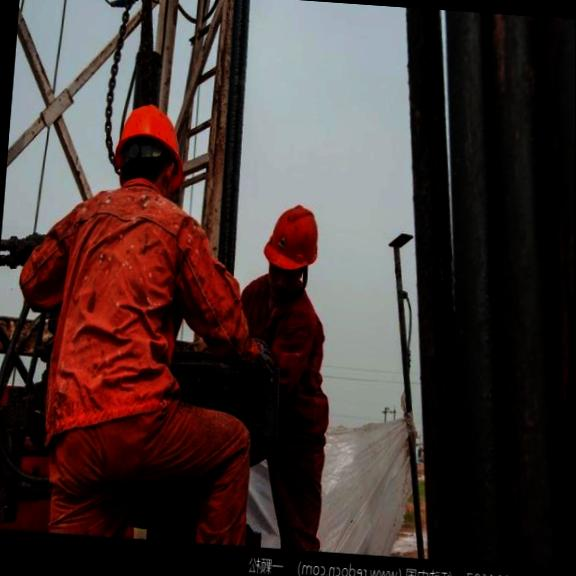no_safety_vest: (45, 174, 190, 442), (227, 284, 327, 430)
